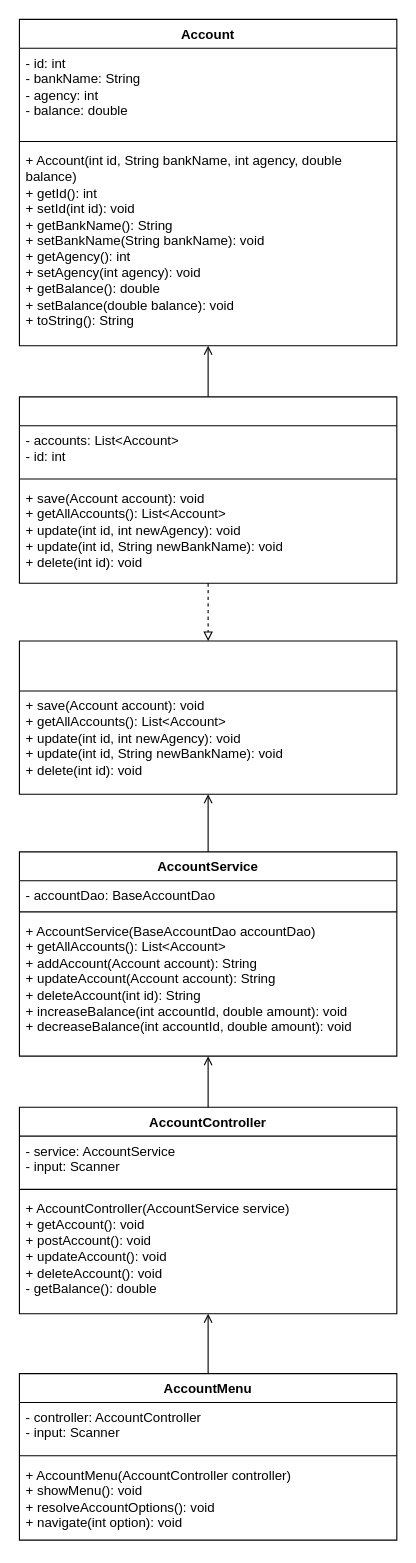
Some shapes in this 416 by 1563 pixel diagram are drawn without their labels. Each missing label, with the box of its shape:
<< interface >> BaseAccountDao: (18, 640, 397, 794)
AccountDao: (18, 396, 397, 583)
